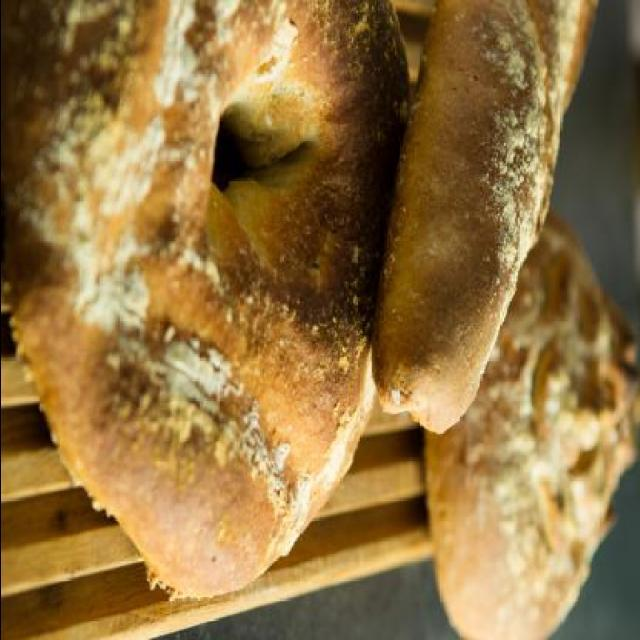Bagel: (2, 0, 410, 597), (370, 0, 594, 432), (422, 213, 638, 639)
